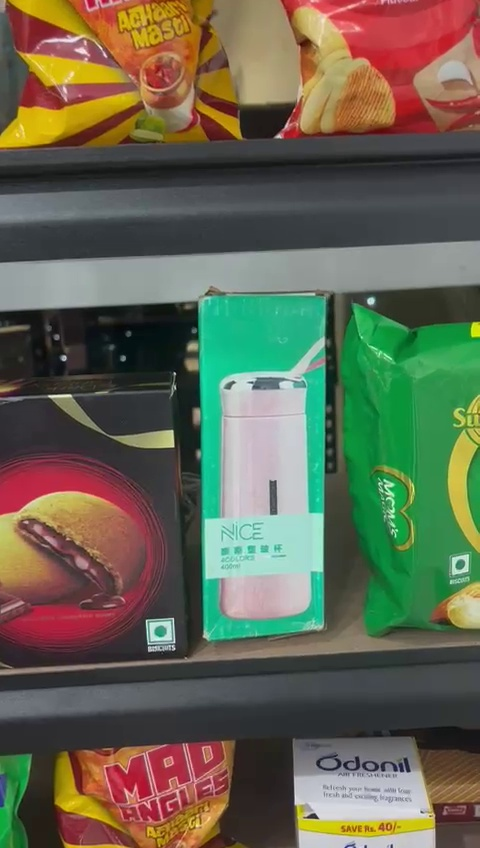Bottle: (199, 293, 325, 641)
